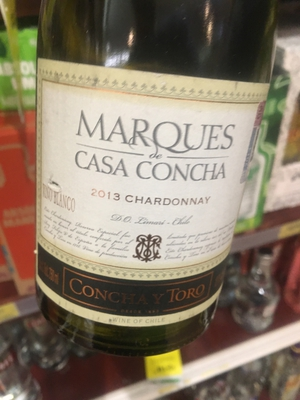marques de casa concha chardonnay: (39, 20, 267, 341)
